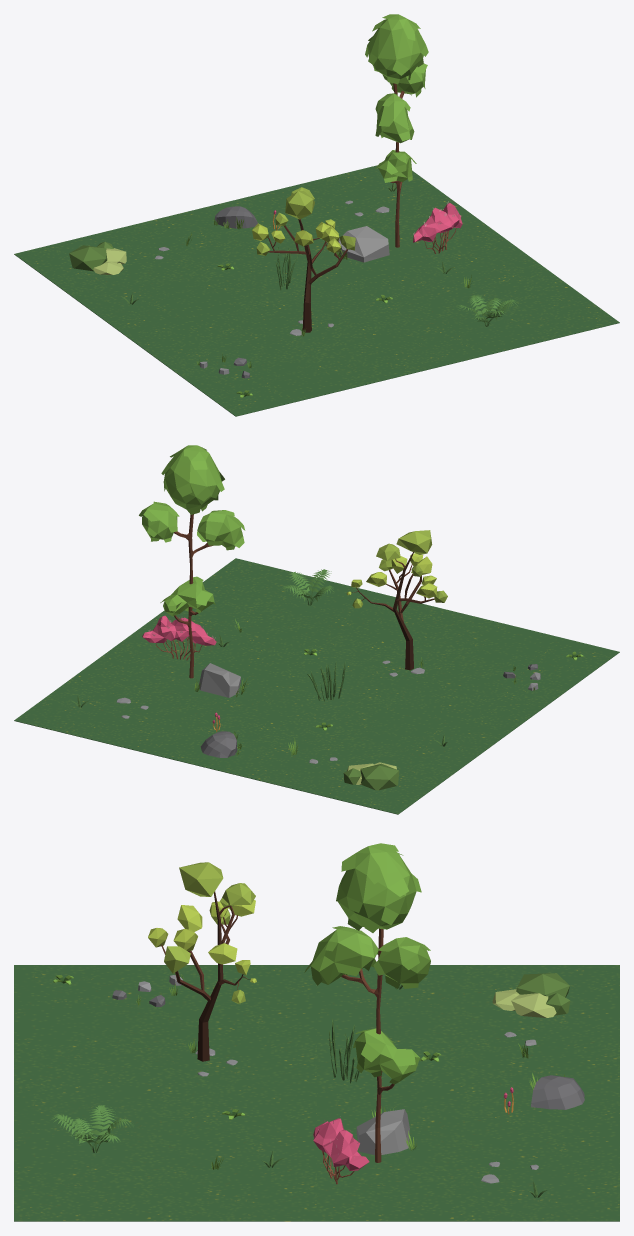
3 views of the same model, one above another, from view 1: azimuth 30°, elevation 25°; view 2: azimuth 150°, elevation 25°; view 3: azimuth 270°, elevation 25° (orthographic). The views are drawn at different scales.
Parts seen in each view (by area): view 1: EP_08; view 2: EP_08; view 3: EP_08.
Part boxes in pixels (<box>): EP_08: <box>14,14,619,416</box>; EP_08: <box>14,445,619,814</box>; EP_08: <box>14,843,619,1221</box>.
Size of what is drawn, in the model's own units: 16 by 9.39 by 16.
1 material, 1 textured.
